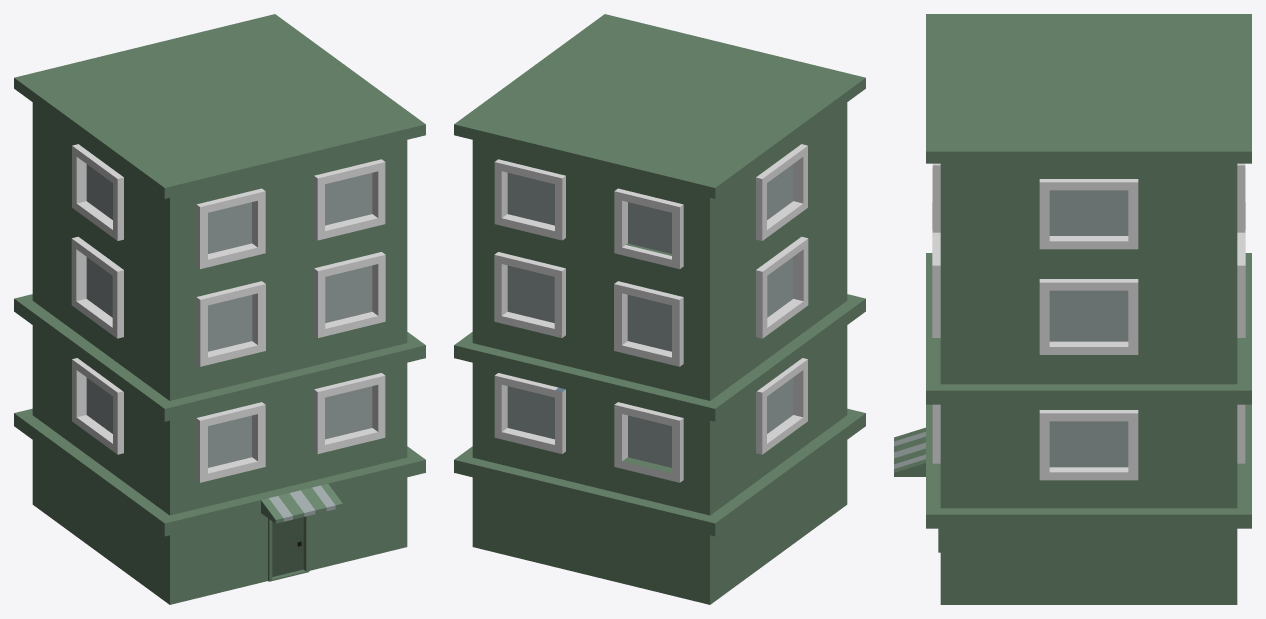
File: Green_Building.fbx
3 views of the same model, side by side, from view 1: azimuth 30°, elevation 25°; view 2: azimuth 150°, elevation 25°; view 3: azimuth 270°, elevation 25° (orthographic). The views are drawn at different scales.
Visible parts, largest first — view 1: Green_House; view 2: Green_House; view 3: Green_House.
Boxes of the visible parts, x1=… form: Green_House: x1=14, y1=14, x2=425, y2=604; Green_House: x1=454, y1=14, x2=865, y2=604; Green_House: x1=894, y1=14, x2=1251, y2=604.
Size of the model in its own units: 11 by 17.1 by 12.08.
